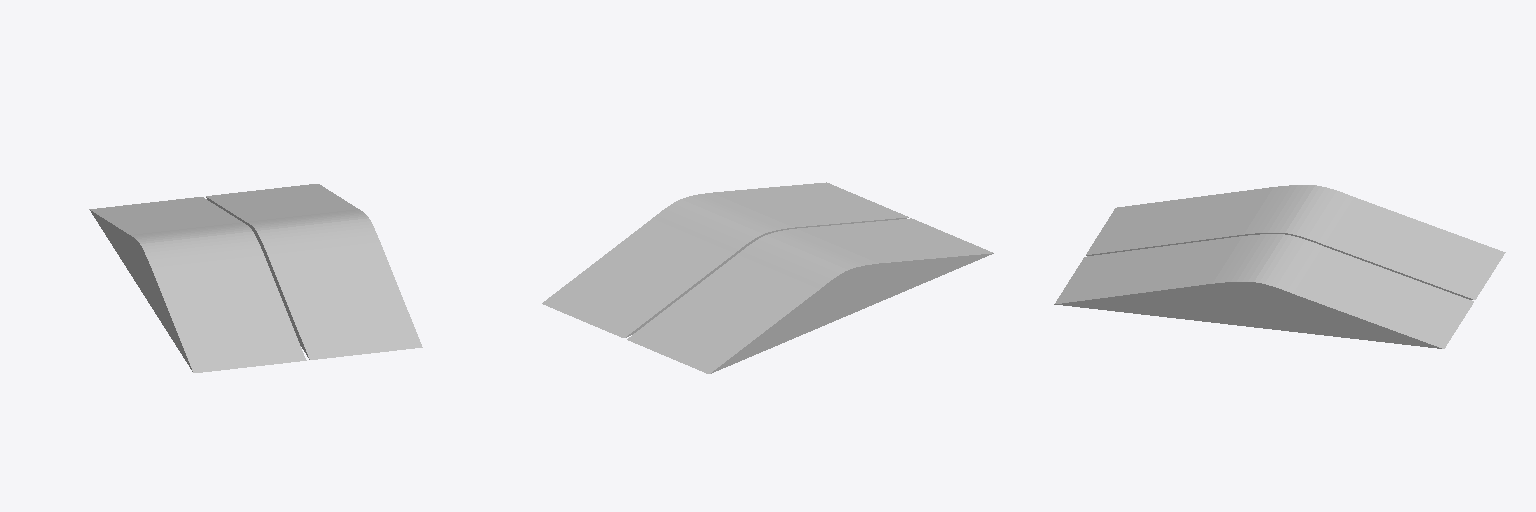
File: Skate_Ramp_Fun_Box_08_.obj
The picture shows the model from 3 angles: view 1: azimuth 30°, elevation 25°; view 2: azimuth 150°, elevation 25°; view 3: azimuth 270°, elevation 25°; orthographic projection.
Visible parts, largest first — view 1: polySurfaSkate_Ramp_Fun_Box_08_Skate_Ramp; view 2: polySurfaSkate_Ramp_Fun_Box_08_Skate_Ramp; view 3: polySurfaSkate_Ramp_Fun_Box_08_Skate_Ramp.
Part boxes in pixels (x1,y1,x2,y2): polySurfaSkate_Ramp_Fun_Box_08_Skate_Ramp: (89, 184, 422, 372); polySurfaSkate_Ramp_Fun_Box_08_Skate_Ramp: (542, 182, 993, 373); polySurfaSkate_Ramp_Fun_Box_08_Skate_Ramp: (1054, 185, 1505, 348).
Bounding box in the file's own units: 419 × 63.33 × 567.